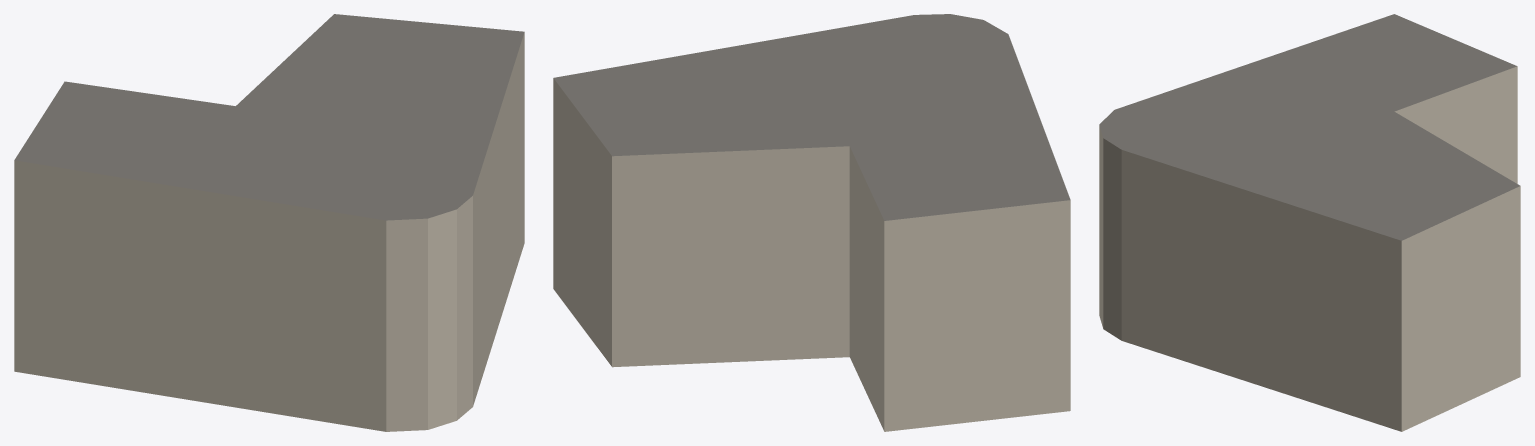
The picture shows the model from 3 angles, left to right: view 1: azimuth 30°, elevation 25°; view 2: azimuth 150°, elevation 25°; view 3: azimuth 270°, elevation 25°; orthographic projection. The views are drawn at different scales.
Parts seen in each view (by area): view 1: HP-w1287060492; view 2: HP-w1287060492; view 3: HP-w1287060492.
Boxes of the visible parts, x1=… form: HP-w1287060492: x1=14, y1=14, x2=524, y2=431; HP-w1287060492: x1=553, y1=14, x2=1070, y2=431; HP-w1287060492: x1=1099, y1=14, x2=1520, y2=431.
Size of the model in its own units: 45.83 by 18 by 35.97.
